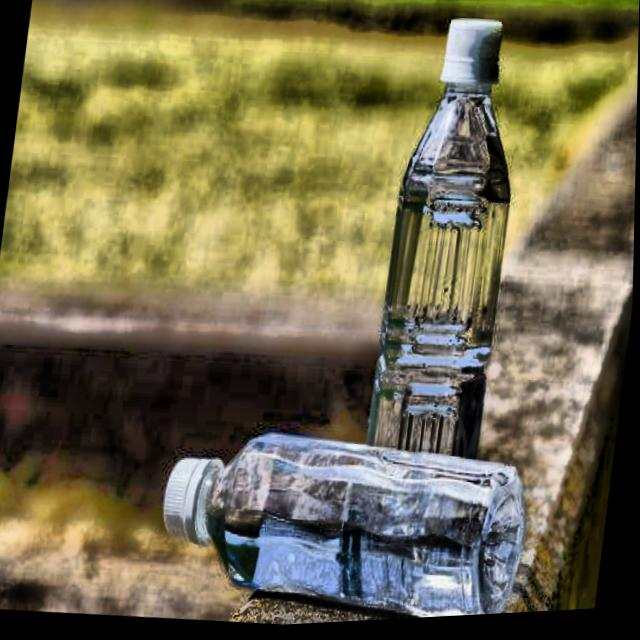Bottles: (341, 8, 560, 495), (123, 408, 568, 635)
